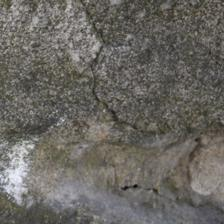Crack: (49, 58, 117, 166), (25, 84, 155, 131)
